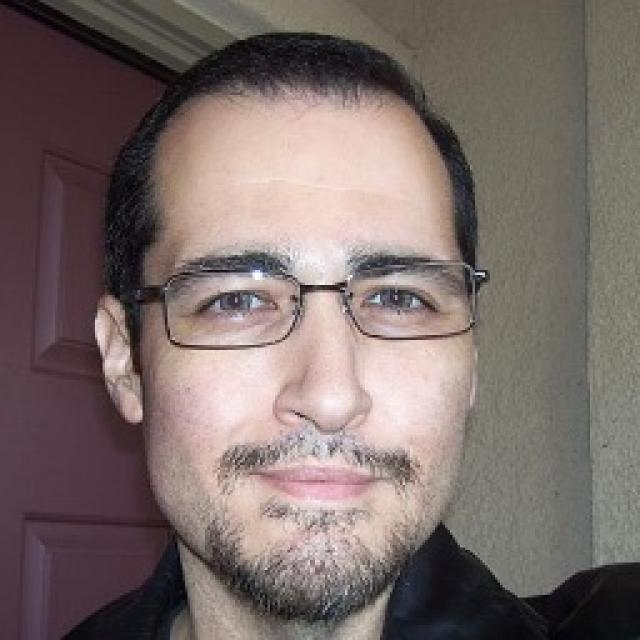glasses: (112, 262, 490, 351)
